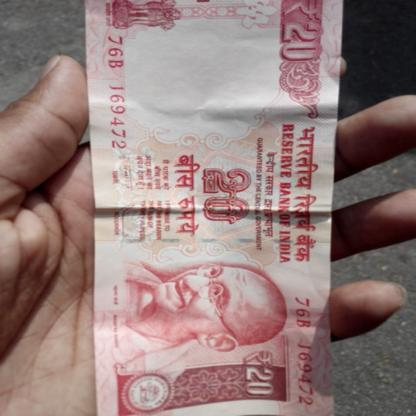Old20Front: (83, 0, 344, 416)
